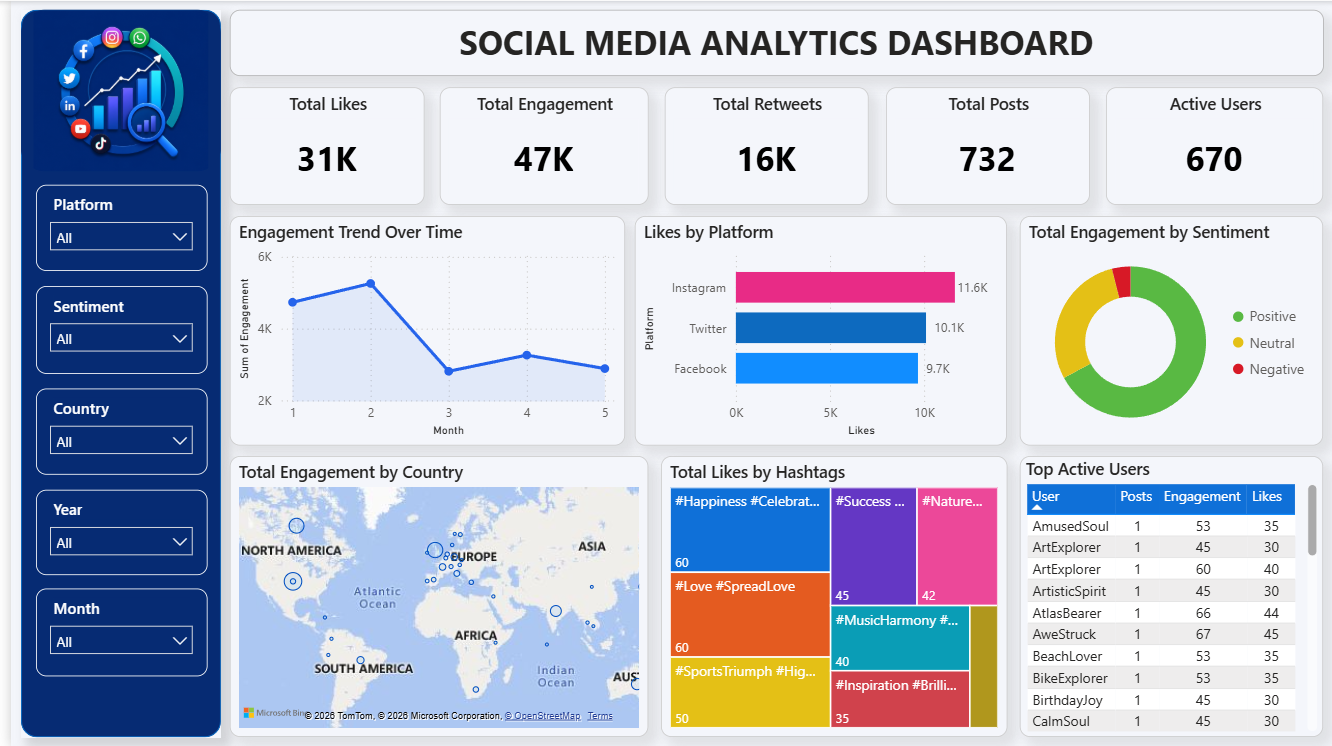

Layout of this report page (visuals, bound fields, positions):
{"tool":"powerbi","page":{"name":"DASHBOARD","canvas":[1280,720],"ordinal":0},"visuals":[{"type":"shape","box":[9.7,8.4,193,702.1],"z":0},{"type":"textbox","box":[211.1,8.4,1055.6,63.9],"z":1000},{"type":"image","box":[9.7,8.4,193,156.8],"z":2000},{"type":"cardVisual","title":"Total Likes","fields":{"Data":["clean_social_media.Total Likes"]},"box":[211.1,83.2,188.2,113.4],"z":3000},{"type":"cardVisual","title":"Total Engagement","fields":{"Data":["clean_social_media.Total Engagement"]},"box":[413.8,83.2,201.5,113.4],"z":4000},{"type":"cardVisual","title":"Total Retweets","fields":{"Data":["clean_social_media.Total Retweets"]},"box":[631,83.2,196.6,113.4],"z":5000},{"type":"cardVisual","title":"Total Posts","fields":{"Data":["clean_social_media.Total Posts"]},"box":[844.5,83.2,196.6,113.4],"z":6000},{"type":"cardVisual","title":"Active Users","fields":{"Data":["clean_social_media.Active Users"]},"box":[1056.8,83.2,209.9,113.4],"z":7000},{"type":"areaChart","title":"Engagement Trend Over Time","fields":{"Category":["clean_social_media.Month"],"Y":["Sum(clean_social_media.Engagement)"]},"box":[211.1,207.5,381.2,222],"z":8000},{"type":"clusteredBarChart","title":"Likes by Platform","fields":{"Category":["clean_social_media.Platform"],"Y":["clean_social_media.Total Likes"]},"box":[602,207.5,359.5,222],"z":9000},{"type":"donutChart","fields":{"Y":["clean_social_media.Total Engagement"],"Category":["clean_social_media.Sentiment"]},"box":[973.6,207.5,293.2,222],"z":10000},{"type":"map","fields":{"Category":["clean_social_media.Country"],"Size":["clean_social_media.Total Engagement"]},"box":[211.1,439.1,404.2,271.4],"z":11000},{"type":"treemap","fields":{"Details":["clean_social_media.Hashtags"],"Values":["clean_social_media.Total Likes"]},"box":[627.3,439.1,334.2,271.4],"z":12000},{"type":"tableEx","title":"Top Active Users","fields":{"Values":["clean_social_media.User","clean_social_media.Total Posts","clean_social_media.Engagement","clean_social_media.Likes"]},"box":[973.6,439.1,293.2,271.4],"z":13000},{"type":"slicer","fields":{"Values":["clean_social_media.Platform"]},"box":[24.1,177.3,165.3,83.2],"z":14000},{"type":"slicer","fields":{"Values":["clean_social_media.Sentiment"]},"box":[24.1,275.1,165.3,84.5],"z":15000},{"type":"slicer","fields":{"Values":["clean_social_media.Country"]},"box":[24.1,374,165.3,83.2],"z":16000},{"type":"slicer","fields":{"Values":["clean_social_media.Year"]},"box":[24.1,471.7,165.3,82],"z":17000},{"type":"slicer","fields":{"Values":["clean_social_media.Month"]},"box":[24.1,567,165.3,84.5],"z":18000}]}

Visuals, with their boxes in screenshot pixels (x1, y1, x2, y2), scaled from the page's 1280x720 canvas onto the 1332x746 screenshot:
shape: [left=10, top=9, right=211, bottom=736]
textbox: [left=220, top=9, right=1318, bottom=75]
image: [left=10, top=9, right=211, bottom=171]
"Total Likes" cardVisual: [left=220, top=86, right=416, bottom=204]
"Total Engagement" cardVisual: [left=431, top=86, right=640, bottom=204]
"Total Retweets" cardVisual: [left=657, top=86, right=861, bottom=204]
"Total Posts" cardVisual: [left=879, top=86, right=1083, bottom=204]
"Active Users" cardVisual: [left=1100, top=86, right=1318, bottom=204]
"Engagement Trend Over Time" areaChart: [left=220, top=215, right=616, bottom=445]
"Likes by Platform" clusteredBarChart: [left=626, top=215, right=1001, bottom=445]
donutChart - clean_social_media.Total Engagement x clean_social_media.Sentiment: [left=1013, top=215, right=1318, bottom=445]
map - clean_social_media.Country x clean_social_media.Total Engagement: [left=220, top=455, right=640, bottom=736]
treemap - clean_social_media.Hashtags x clean_social_media.Total Likes: [left=653, top=455, right=1001, bottom=736]
"Top Active Users" tableEx: [left=1013, top=455, right=1318, bottom=736]
slicer - clean_social_media.Platform: [left=25, top=184, right=197, bottom=270]
slicer - clean_social_media.Sentiment: [left=25, top=285, right=197, bottom=373]
slicer - clean_social_media.Country: [left=25, top=388, right=197, bottom=474]
slicer - clean_social_media.Year: [left=25, top=489, right=197, bottom=574]
slicer - clean_social_media.Month: [left=25, top=587, right=197, bottom=675]
